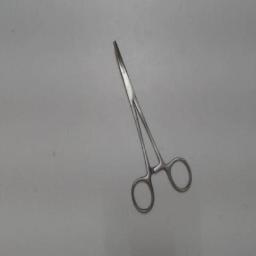Crile Artery Forceps: (110, 34, 194, 218)
